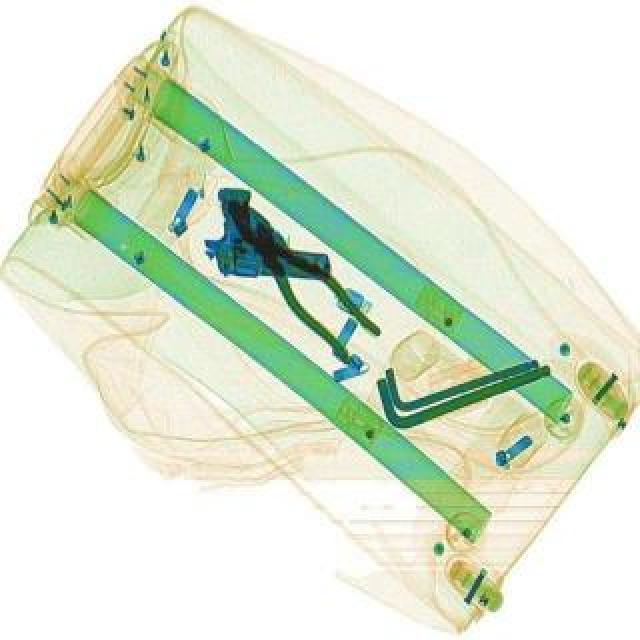gun: (198, 186, 334, 280)
wrench: (208, 182, 384, 362)
